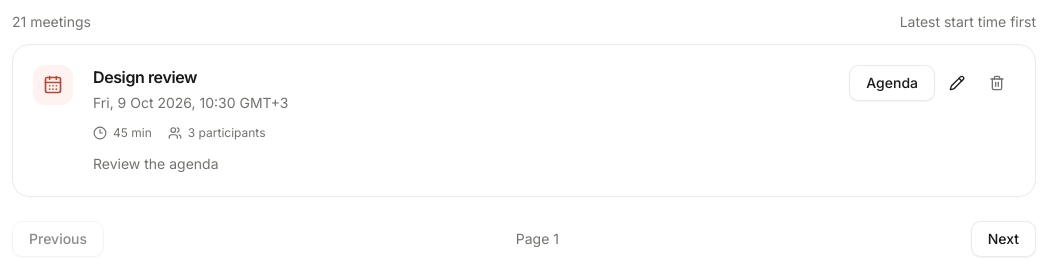
Test: Meetings › paginates without displaying stale previous-page records
This screenshot has width=1048, height=274.
Check: the heading "Design review" is shown, box 93,67 -> 197,87
Click the button "Next".
click(1003, 239)  # box 971,221 -> 1036,257
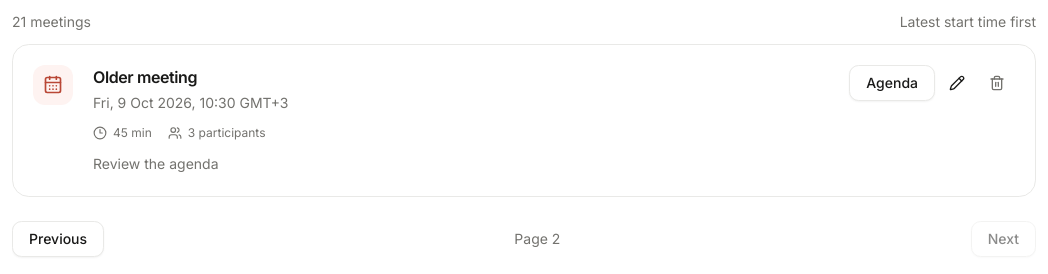
Check: the heading "Older meeting" is shown, box 93,67 -> 197,87
Check: the heading "Design review" is gone
